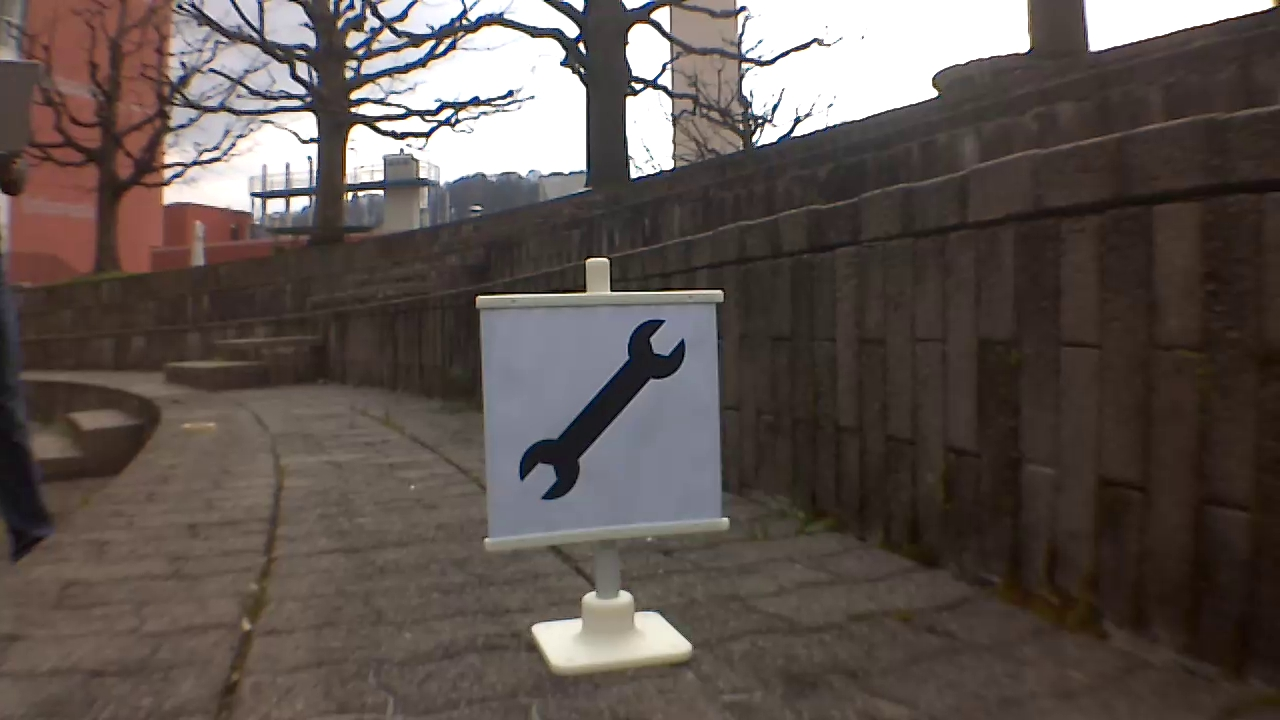wrench: (516, 312, 687, 502)
